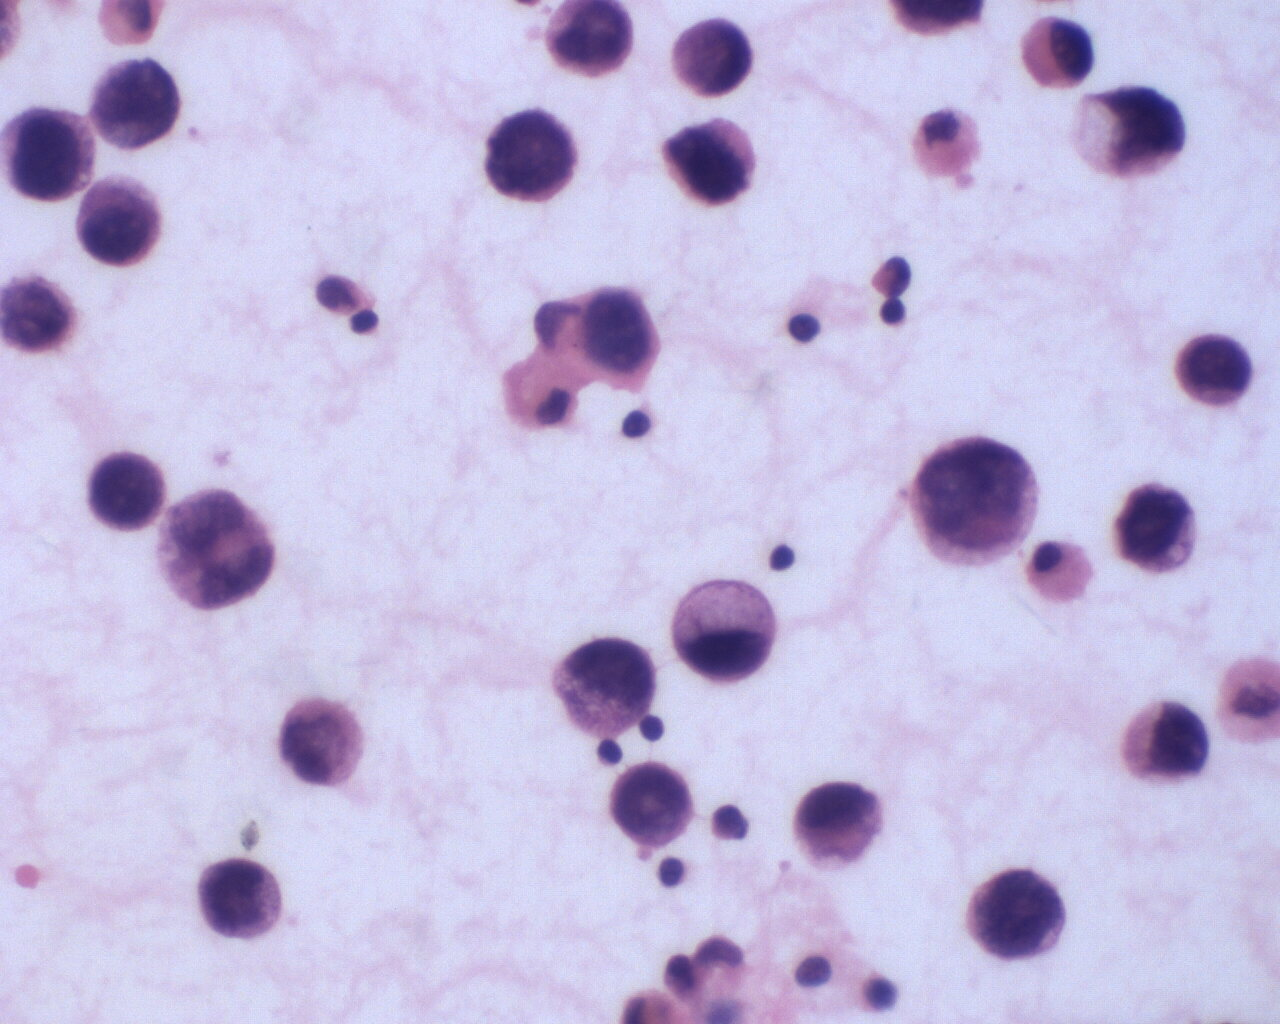ab: (904, 432, 1039, 569), (1067, 77, 1188, 194), (549, 633, 659, 744), (671, 572, 776, 684), (654, 109, 766, 210), (2, 104, 108, 209), (965, 860, 1068, 965), (573, 282, 666, 397), (484, 107, 584, 208), (1109, 482, 1211, 581), (272, 689, 367, 795), (70, 171, 168, 271), (85, 53, 183, 152), (788, 782, 889, 874), (189, 850, 285, 944), (1115, 697, 1213, 786), (541, 1, 639, 88), (609, 761, 695, 852), (1017, 6, 1104, 94), (671, 16, 759, 101), (1172, 327, 1261, 412), (85, 449, 165, 536)
histo: (1028, 540, 1102, 608)
lymph: (786, 305, 828, 344), (619, 408, 657, 444), (765, 539, 805, 574), (346, 304, 382, 341)
